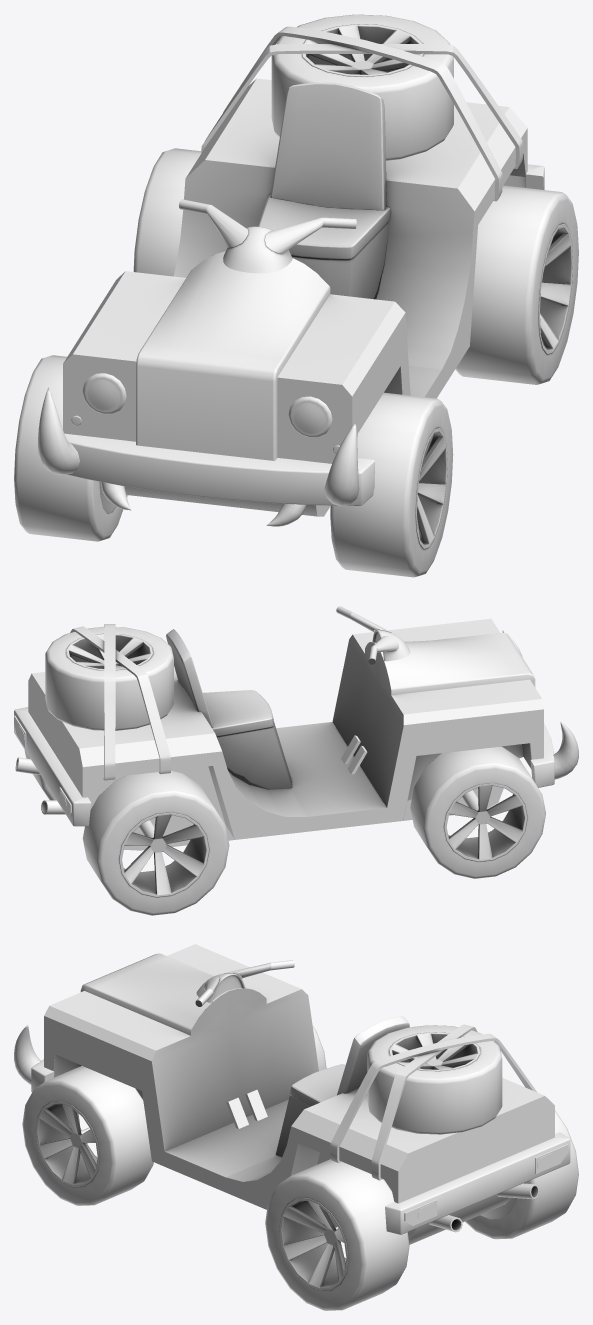
The model's file is Buto_CarScalePose.fbx.
3 renders of one model, top to bottom at view 1: azimuth 30°, elevation 25°; view 2: azimuth 150°, elevation 25°; view 3: azimuth 270°, elevation 25°, orthographic. The views are drawn at different scales.
Parts seen in each view (by area): view 1: Cube.062; view 2: Cube.062; view 3: Cube.062.
Boxes of the visible parts, x1,y1,x2,y2 form: Cube.062: [14, 14, 578, 577]; Cube.062: [14, 606, 578, 915]; Cube.062: [14, 944, 578, 1310].
Bounding box in the file's own units: 1173 × 2679 × 2679.
